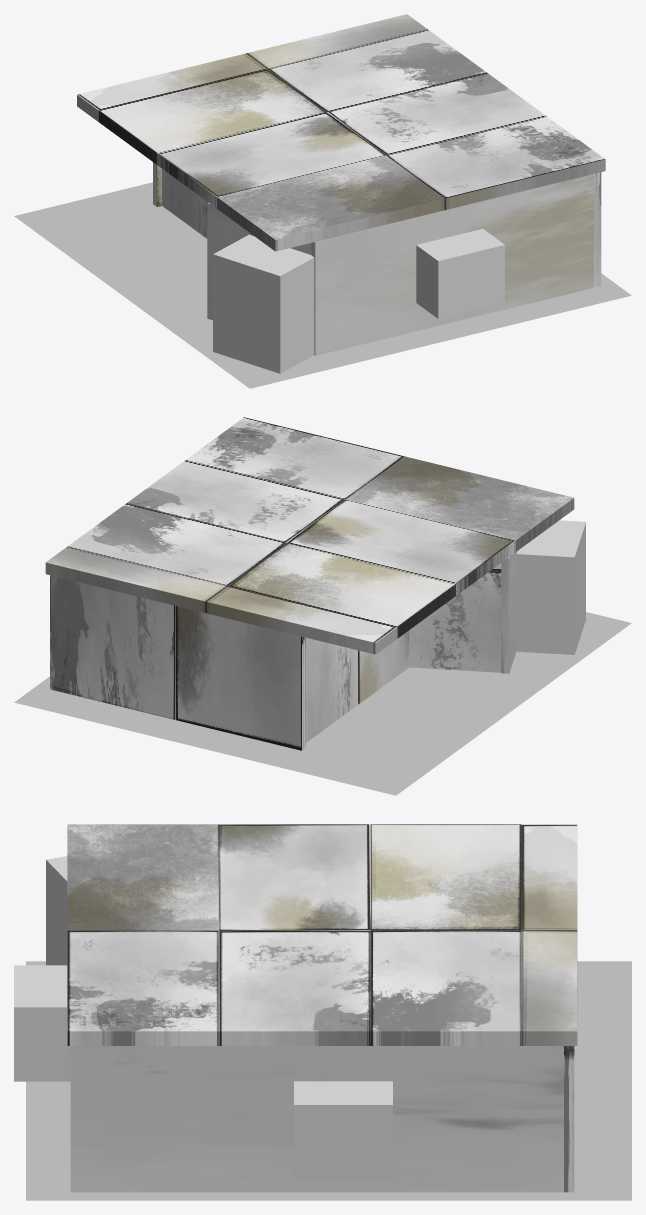
Rendered from QuartoEstrutura.fbx.
The picture shows the model from 3 angles, top to bottom: view 1: azimuth 30°, elevation 25°; view 2: azimuth 150°, elevation 25°; view 3: azimuth 270°, elevation 25°; orthographic projection. The views are drawn at different scales.
Visible parts, largest first — view 1: Teto, Cube.004, Plane, PretoSaida, Cube.001, Cube.009, Cube.003, Cube.005; view 2: Teto, Cube.008, Plane, PretoSaida, Cube.011, Cube.009, Cube.003; view 3: Teto, Cube.005, Plane, Cube, Cube.001, PretoSaida, Cube.008.
Boxes of the visible parts, x1,y1,x2,y2 form: Teto: (77,14,605,251); Cube.004: (311,174,594,355); Plane: (14,182,631,388); PretoSaida: (213,234,314,373); Cube.001: (416,229,504,318); Cube.009: (162,169,207,238); Cube.003: (207,202,253,320); Cube.005: (594,172,601,287); Teto: (45,417,574,654); Cube.008: (50,575,305,750); Plane: (14,612,631,795); PretoSaida: (516,520,585,654); Cube.011: (409,563,501,672); Cube.009: (306,630,409,742); Cube.003: (501,551,517,673); Teto: (67,824,577,1045); Cube.005: (70,1046,563,1192); Plane: (26,961,631,1200); Cube: (294,1081,392,1179); Cube.001: (14,965,70,1081); PretoSaida: (46,856,67,965); Cube.008: (564,1046,574,1192).
Size of the model in its own units: 1106 by 338 by 1135.
